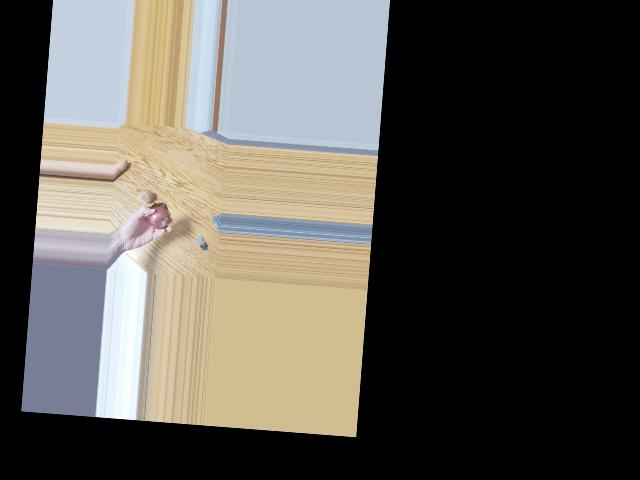onion: (148, 206, 170, 228)
